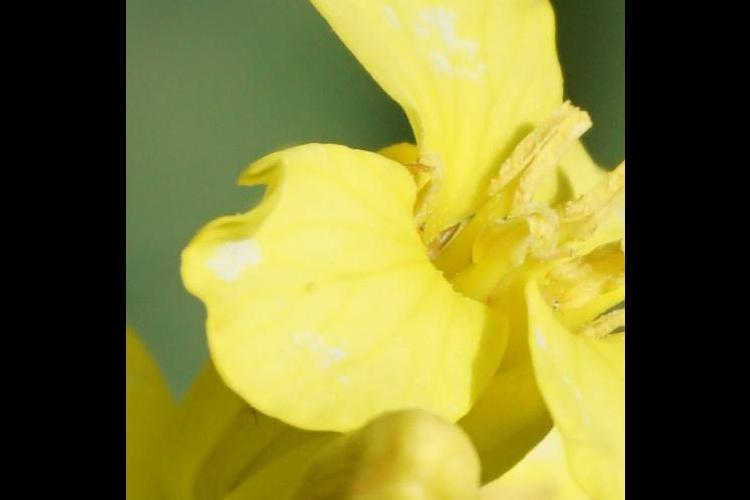bud: (241, 410, 475, 500)
yellow: (196, 1, 623, 491)
